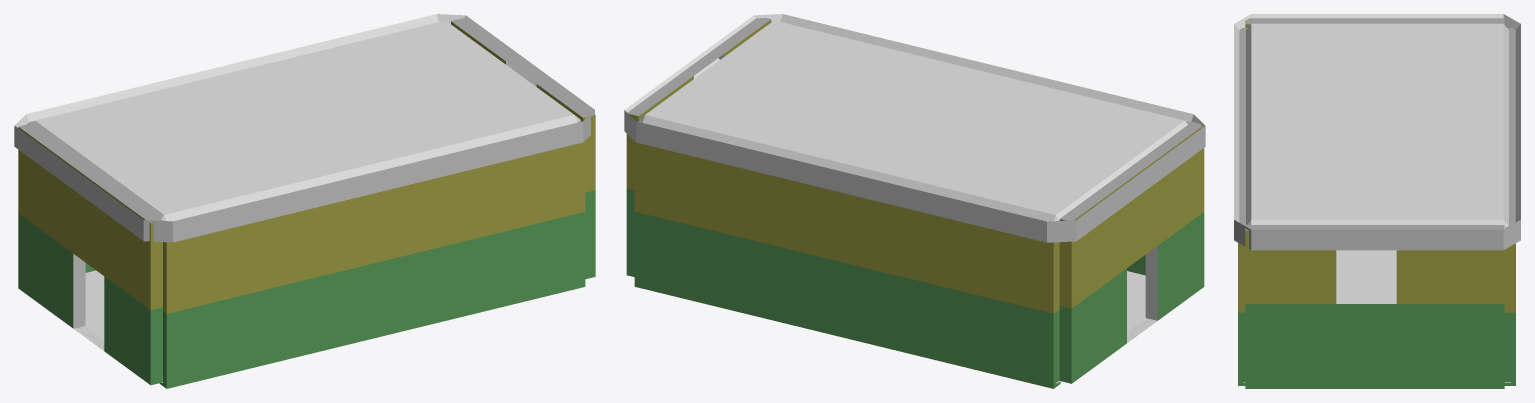
File: Room1Export.fbx
The picture shows the model from 3 angles, left to right: view 1: azimuth 30°, elevation 25°; view 2: azimuth 150°, elevation 25°; view 3: azimuth 270°, elevation 25°; orthographic projection. The views are drawn at different scales.
Visible parts, largest first — view 1: pCube2, pCube4, pCube5, pCube6, pPlane1; view 2: pCube2, pCube3, pCube5, pCube6, pPlane1; view 3: pCube2, pCube6, pCube3, pPlane1, pCube4, pCube5.
Part boxes in pixels (x1=…): pCube2: x1=14, y1=14, x2=594, y2=242; pCube4: x1=159, y1=121, x2=585, y2=388; pCube5: x1=18, y1=123, x2=162, y2=385; pCube6: x1=451, y1=18, x2=595, y2=279; pPlane1: x1=85, y1=270, x2=163, y2=382; pCube2: x1=624, y1=14, x2=1205, y2=242; pCube3: x1=634, y1=121, x2=1060, y2=388; pCube5: x1=1059, y1=122, x2=1204, y2=383; pCube6: x1=626, y1=18, x2=771, y2=276; pPlane1: x1=1056, y1=271, x2=1146, y2=383; pCube2: x1=1234, y1=14, x2=1520, y2=250; pCube6: x1=1245, y1=225, x2=1504, y2=388; pCube3: x1=1504, y1=28, x2=1515, y2=385; pPlane1: x1=1243, y1=250, x2=1511, y2=382; pCube4: x1=1238, y1=28, x2=1247, y2=385; pCube5: x1=1245, y1=18, x2=1504, y2=27.
Bounding box in the file's own units: 2196 × 781 × 1234.
